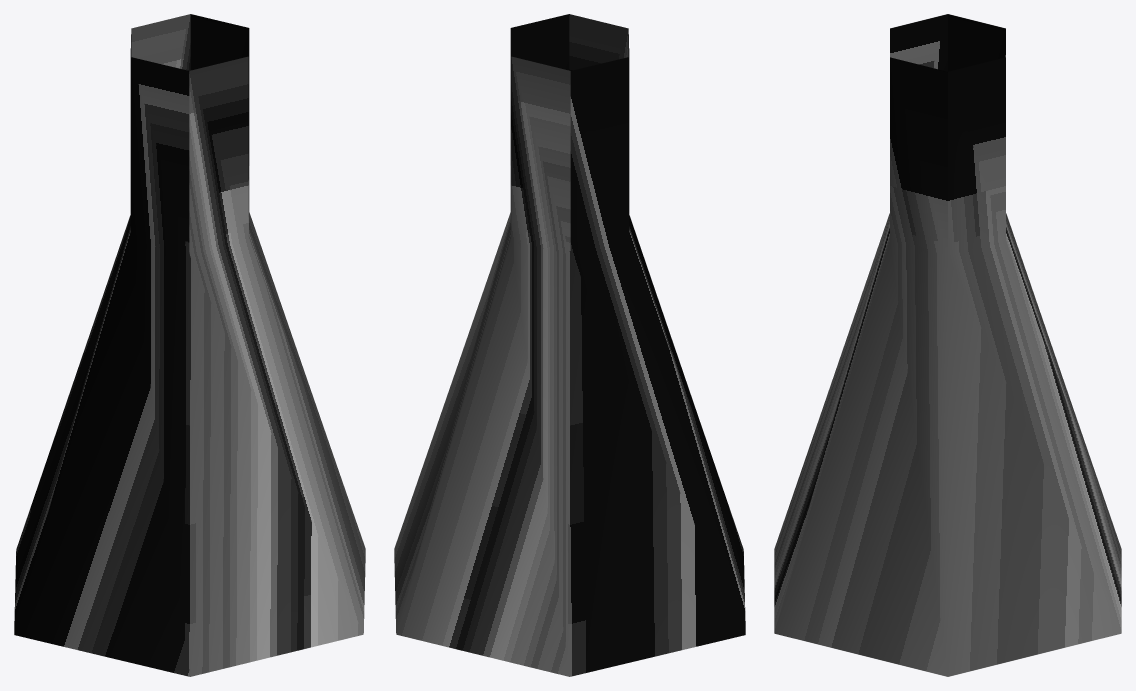
The model's file is Pglassware3Z.obj.
The picture shows the model from 3 angles, left to right: view 1: azimuth 30°, elevation 25°; view 2: azimuth 150°, elevation 25°; view 3: azimuth 270°, elevation 25°; orthographic projection.
Bounding box in the file's own units: 154 × 230 × 132.
Materials: 1 (1 with a texture image).
